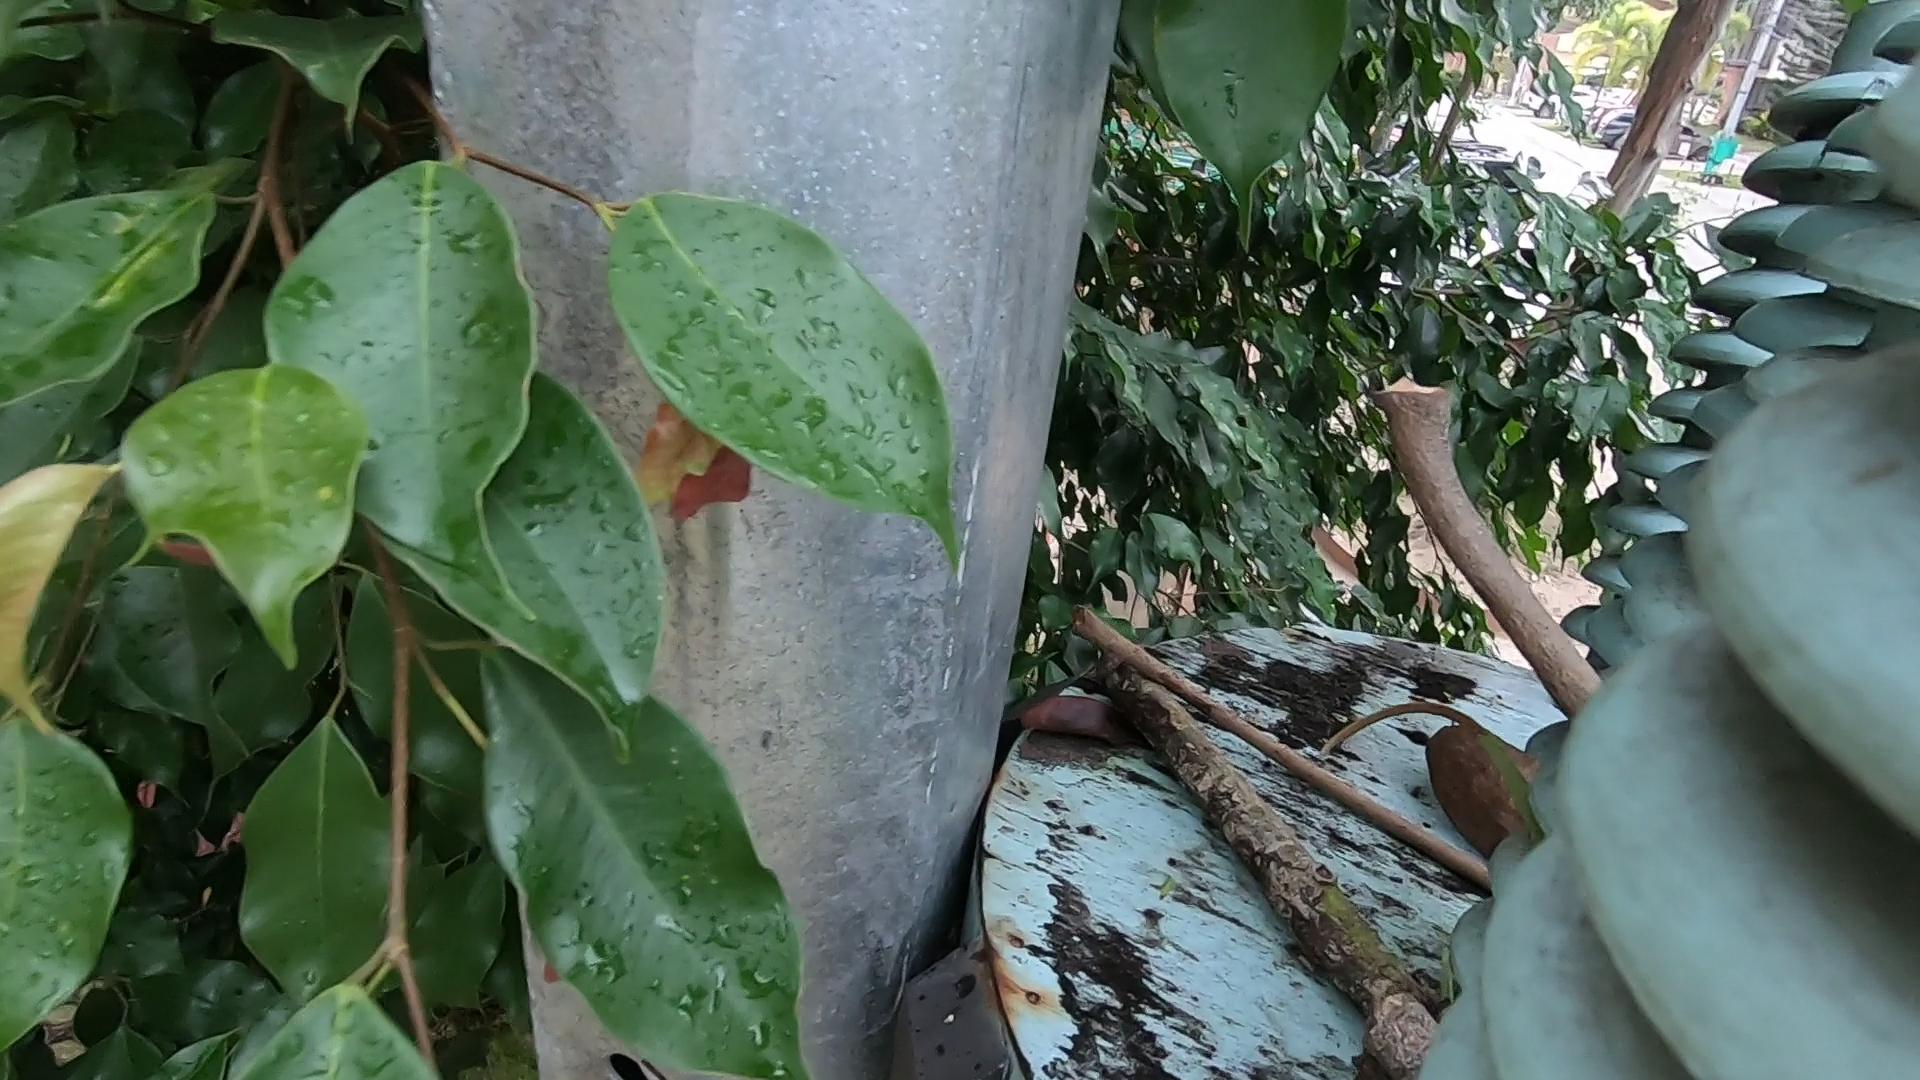branch with leaves: (1097, 673, 1425, 1080)
mahogany fruit: (1360, 622, 1601, 915)
tree branch: (1064, 596, 1503, 909), (1349, 345, 1589, 746)
